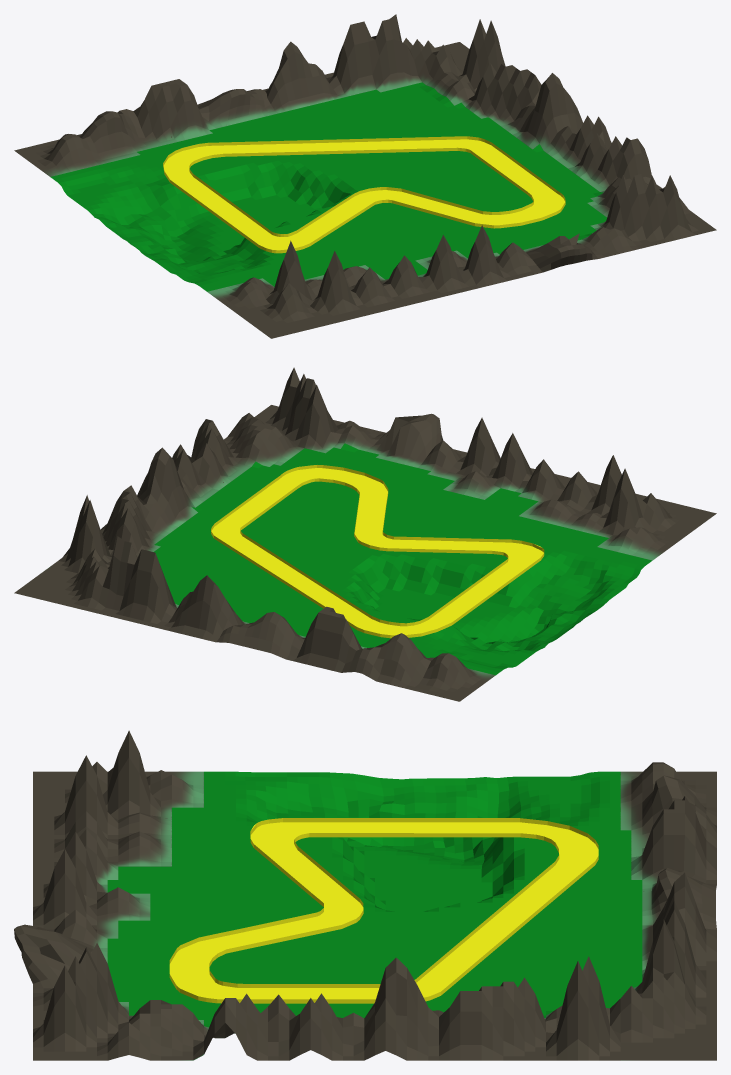
File: Circuito1.fbx
3 renders of one model, top to bottom at view 1: azimuth 30°, elevation 25°; view 2: azimuth 150°, elevation 25°; view 3: azimuth 270°, elevation 25°, orthographic. The views are drawn at different scales.
Visible parts, largest first — view 1: Entorno, Carretera; view 2: Entorno, Carretera; view 3: Entorno, Carretera.
Part boxes in pixels (x1=…): Entorno: x1=14, y1=14, x2=716, y2=338; Carretera: x1=163, y1=136, x2=565, y2=253; Entorno: x1=14, y1=367, x2=716, y2=701; Carretera: x1=211, y1=465, x2=544, y2=638; Entorno: x1=14, y1=730, x2=716, y2=1060; Carretera: x1=169, y1=818, x2=598, y2=1003.
Bounding box in the file's own units: 15050 × 3195 × 15284.
